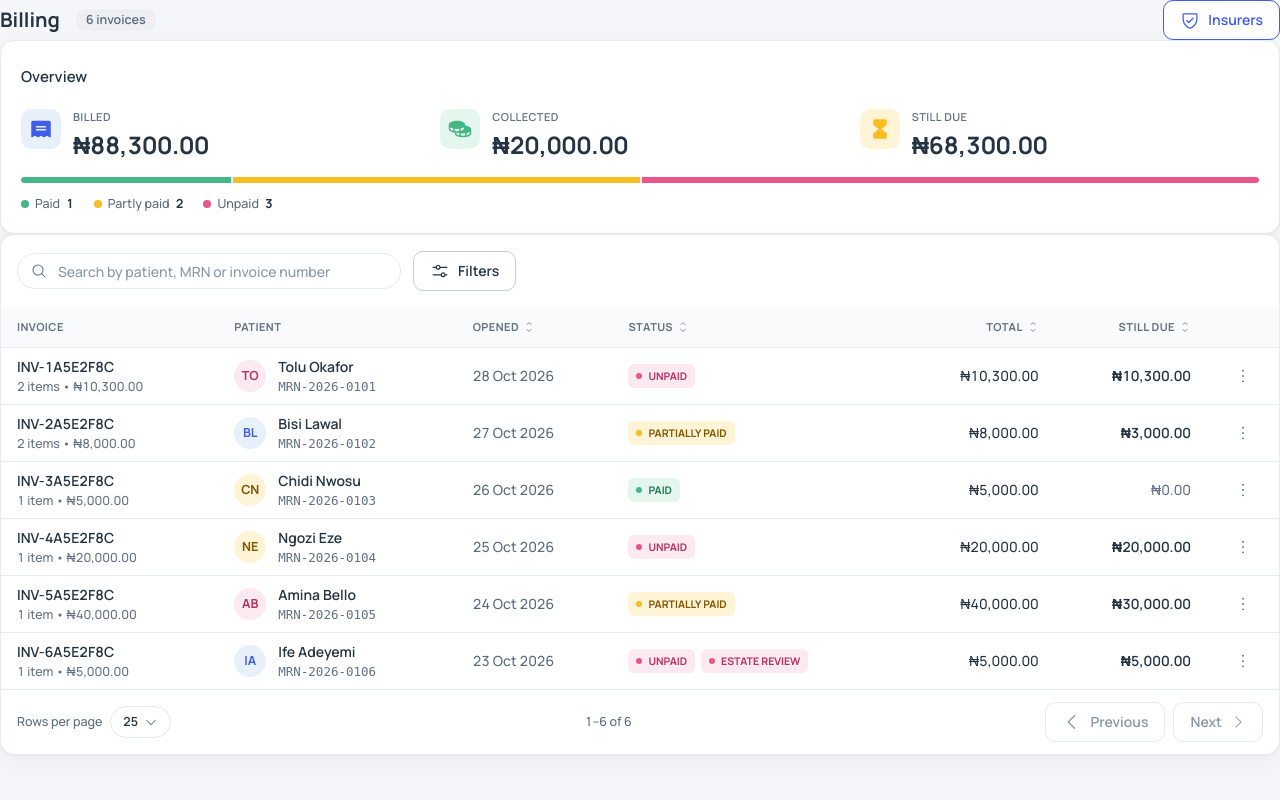
Test: billing screen (mock layer) › filters by payment status and shows what filter is on
Click the button "Filters" at (465, 271), box [413,251,516,291]
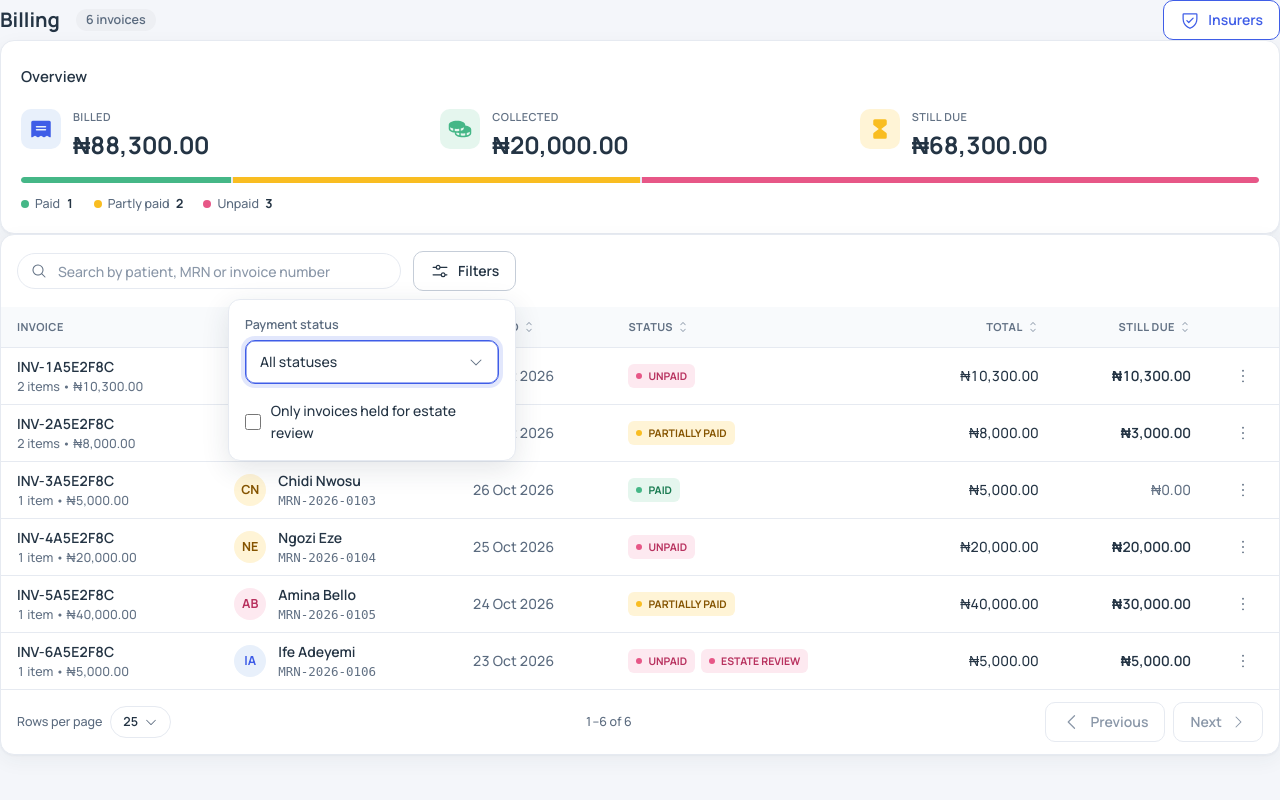
Click the dropdown named "Payment status" at (372, 362), box [245,340,499,384]
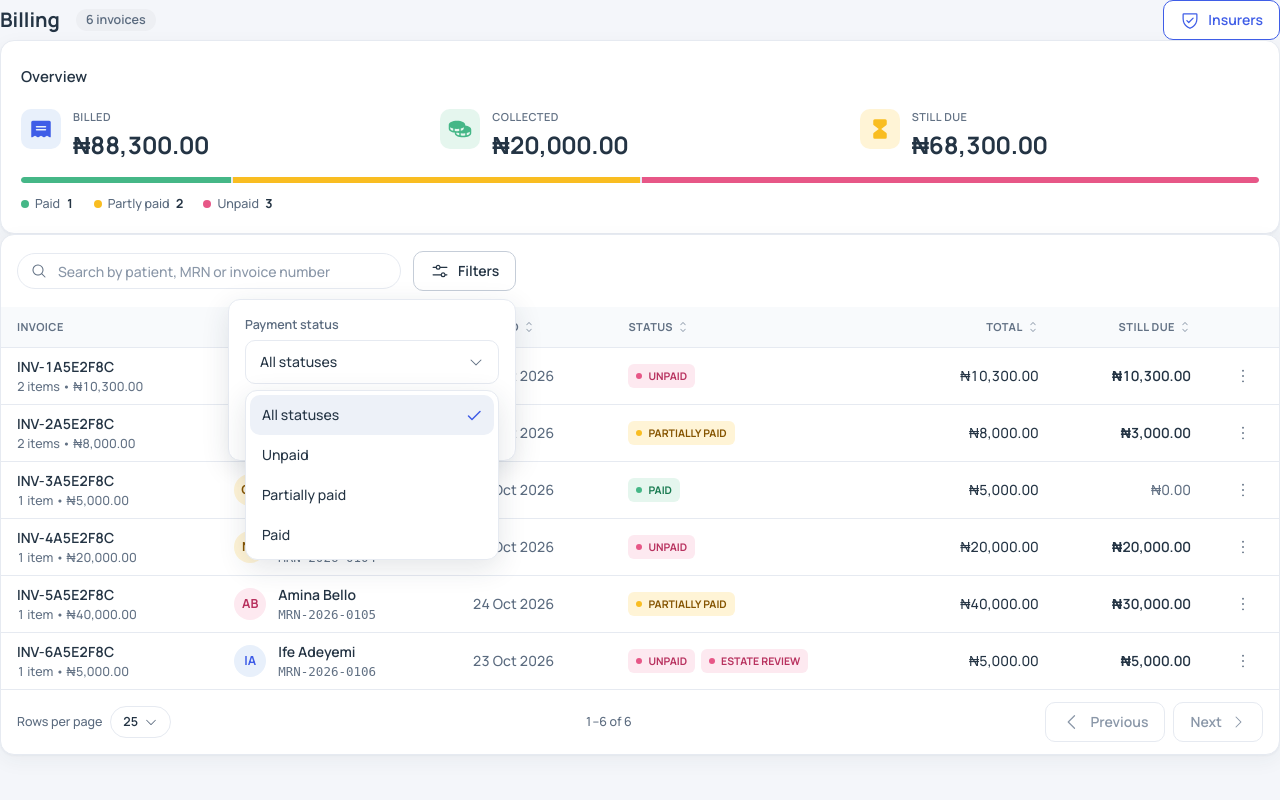
Click the option "Paid" at (276, 534), box [262,525,290,544]
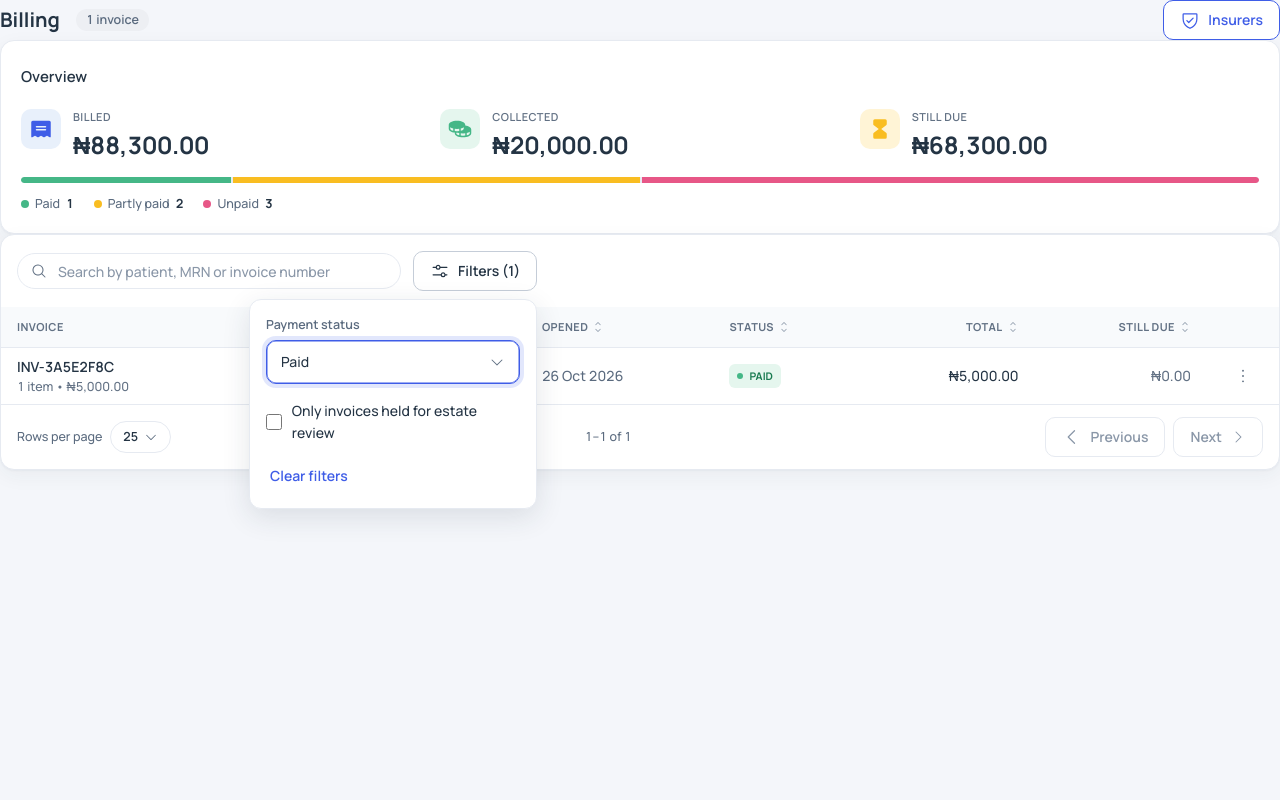
Expected: the text "1 invoice" is shown, [76,9,149,31]
Expected: the button "Filters (1)" is shown, [413,251,537,291]
